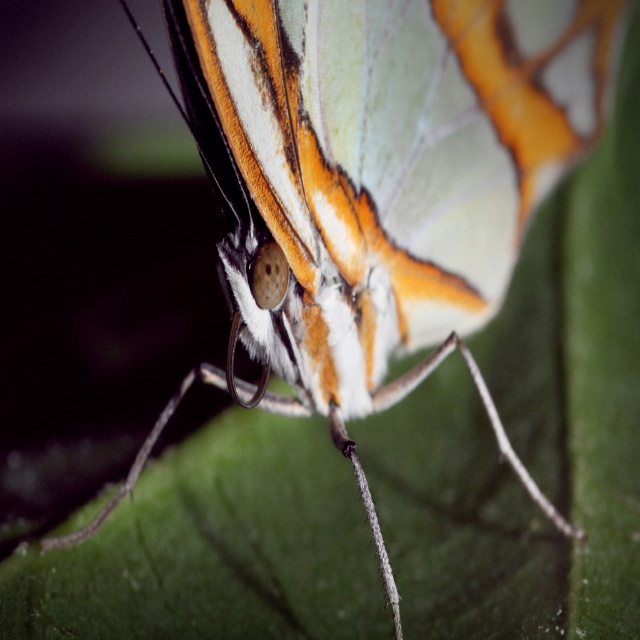Butterfly: (48, 8, 574, 551)
